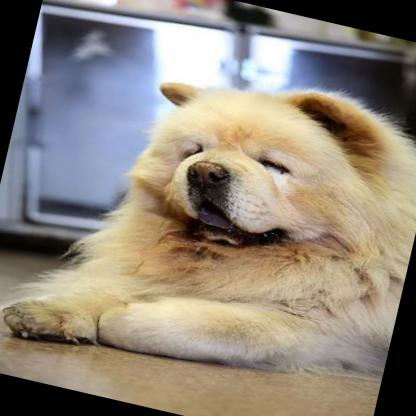chow: (0, 22, 416, 416)
